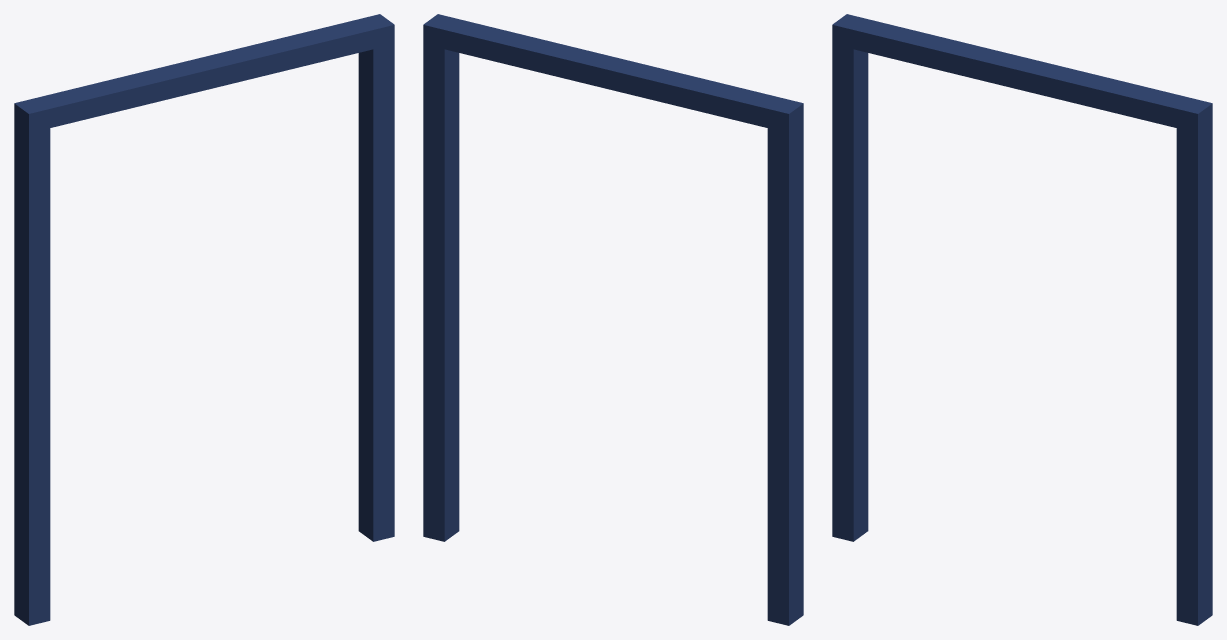
The model's file is Borde.fbx.
3 views of the same model, side by side, from view 1: azimuth 30°, elevation 25°; view 2: azimuth 150°, elevation 25°; view 3: azimuth 330°, elevation 25° (orthographic).
Parts seen in each view (by area): view 1: Borde; view 2: Borde; view 3: Borde.
Part boxes in pixels (x1,y1,x2,y2): Borde: [14, 14, 394, 625]; Borde: [423, 14, 803, 625]; Borde: [832, 14, 1212, 625].
Size of the model in its own units: 3.53 by 4.72 by 0.2456.
